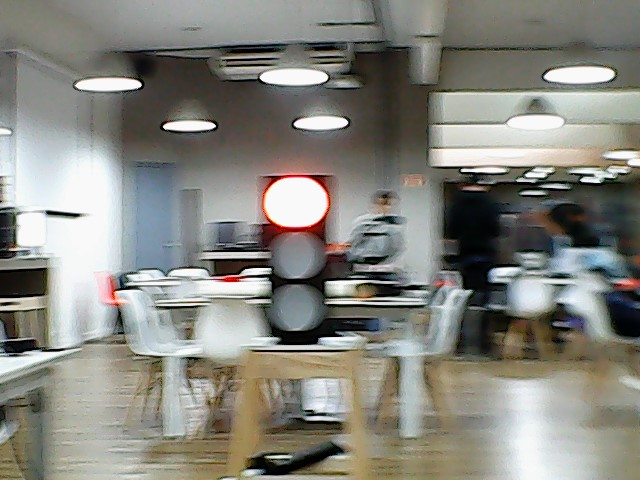vermelho: (255, 173, 337, 352)
